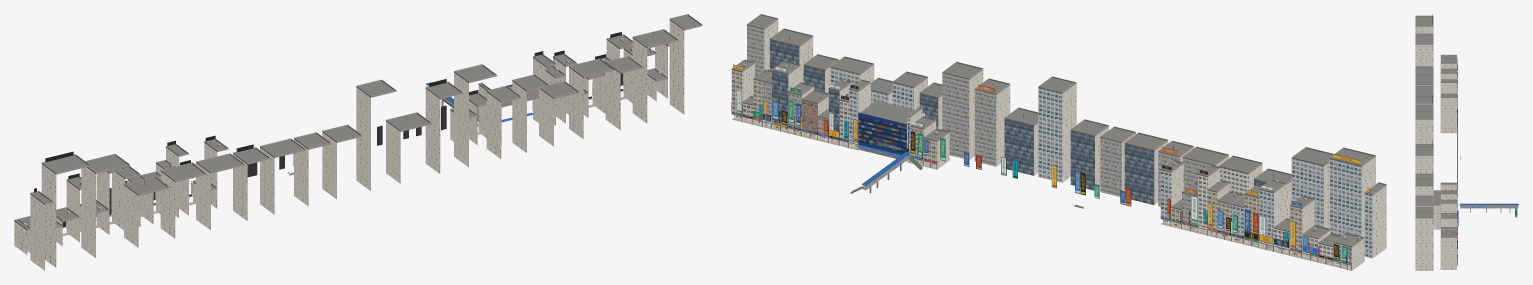
Rendered from gongguan_far.glb.
3 renders of one model, left to right at view 1: azimuth 30°, elevation 25°; view 2: azimuth 150°, elevation 25°; view 3: azimuth 270°, elevation 25°, orthographic. The views are drawn at different scales.
Visible parts, largest first — view 1: gg_bd_facades, gg_bd_parts; view 2: gg_bd_facades, gg_bd_parts, gg_bd_signboards, gg_bd_marketface, gg_bd_shops; view 3: gg_bd_facades, gg_bd_parts, gg_bd_signboards.
Boxes of the visible parts, <box> form: gg_bd_facades: <box>14,20,684,270</box>; gg_bd_parts: <box>14,14,702,235</box>; gg_bd_facades: <box>731,20,1386,270</box>; gg_bd_parts: <box>731,14,1386,270</box>; gg_bd_signboards: <box>731,65,1370,264</box>; gg_bd_marketface: <box>858,114,906,161</box>; gg_bd_shops: <box>734,115,1351,268</box>; gg_bd_facades: <box>1415,26,1456,270</box>; gg_bd_parts: <box>1415,14,1518,265</box>; gg_bd_signboards: <box>1457,64,1506,264</box>.
Bounding box in the file's own units: 464 × 66.9 × 101.
5 materials, 4 textured.
